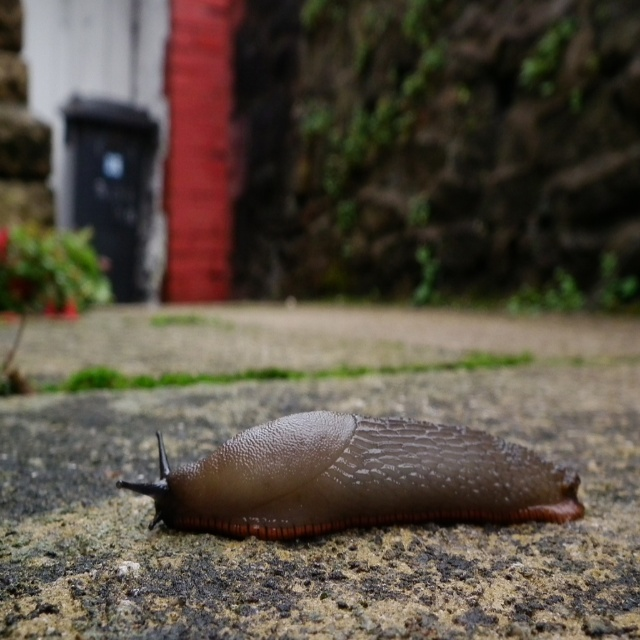Snail: (114, 407, 587, 543)
